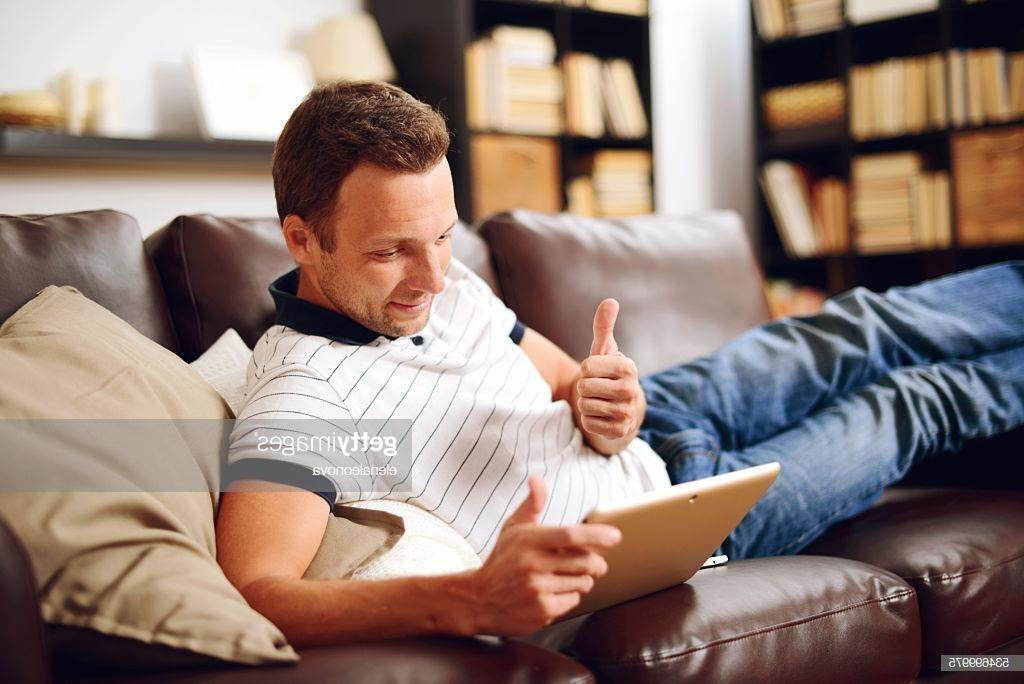thumbsup: (576, 298, 639, 441)
